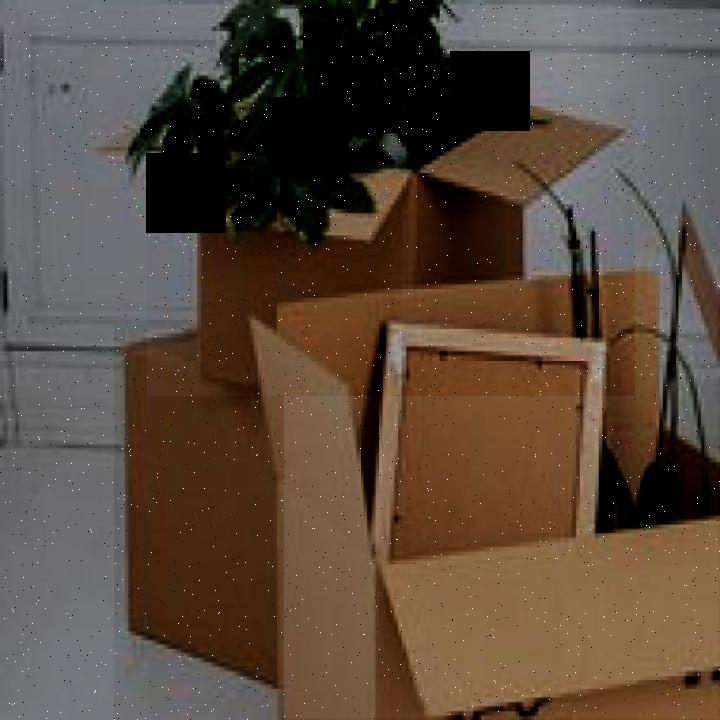box: (242, 253, 718, 718), (147, 97, 635, 396), (114, 325, 284, 720)
